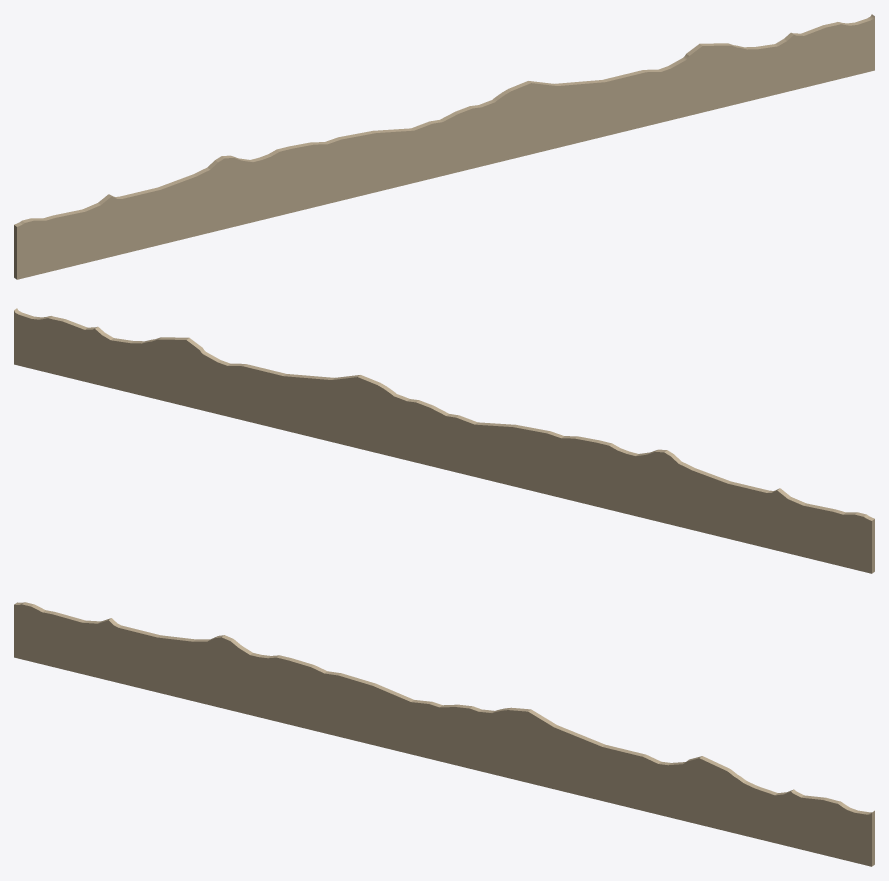
3 views of the same model, one above another, from view 1: azimuth 30°, elevation 25°; view 2: azimuth 150°, elevation 25°; view 3: azimuth 330°, elevation 25° (orthographic).
Parts seen in each view (by area): view 1: layer4; view 2: layer4; view 3: layer4.
Boxes of the visible parts, bbox=[...] form: layer4: bbox=[14, 14, 874, 279]; layer4: bbox=[14, 308, 874, 573]; layer4: bbox=[14, 602, 874, 866].
Size of the model in its own units: 7.96 by 0.6323 by 0.05.
